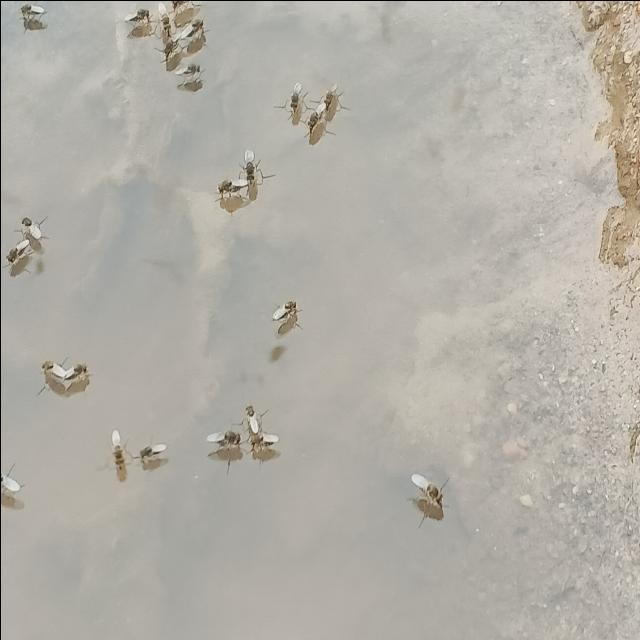Mosquito: (263, 72, 308, 122), (312, 75, 348, 124), (292, 99, 332, 143), (15, 0, 44, 32)
Mosquito Swarm: (114, 0, 202, 91)
